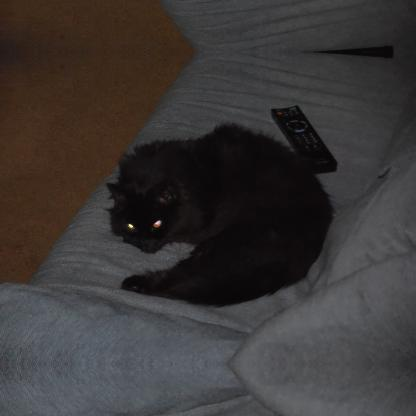Cat: (106, 125, 336, 309)
